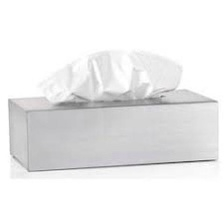book: (2, 82, 224, 176)
tissue: (31, 41, 187, 110)
